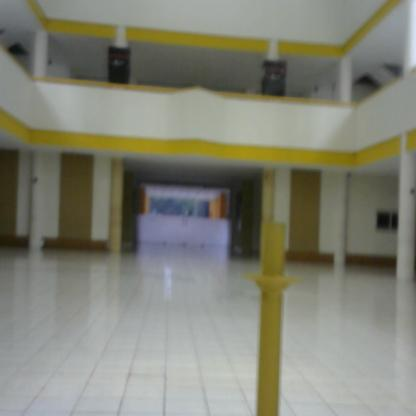pole: (240, 211, 306, 416)
